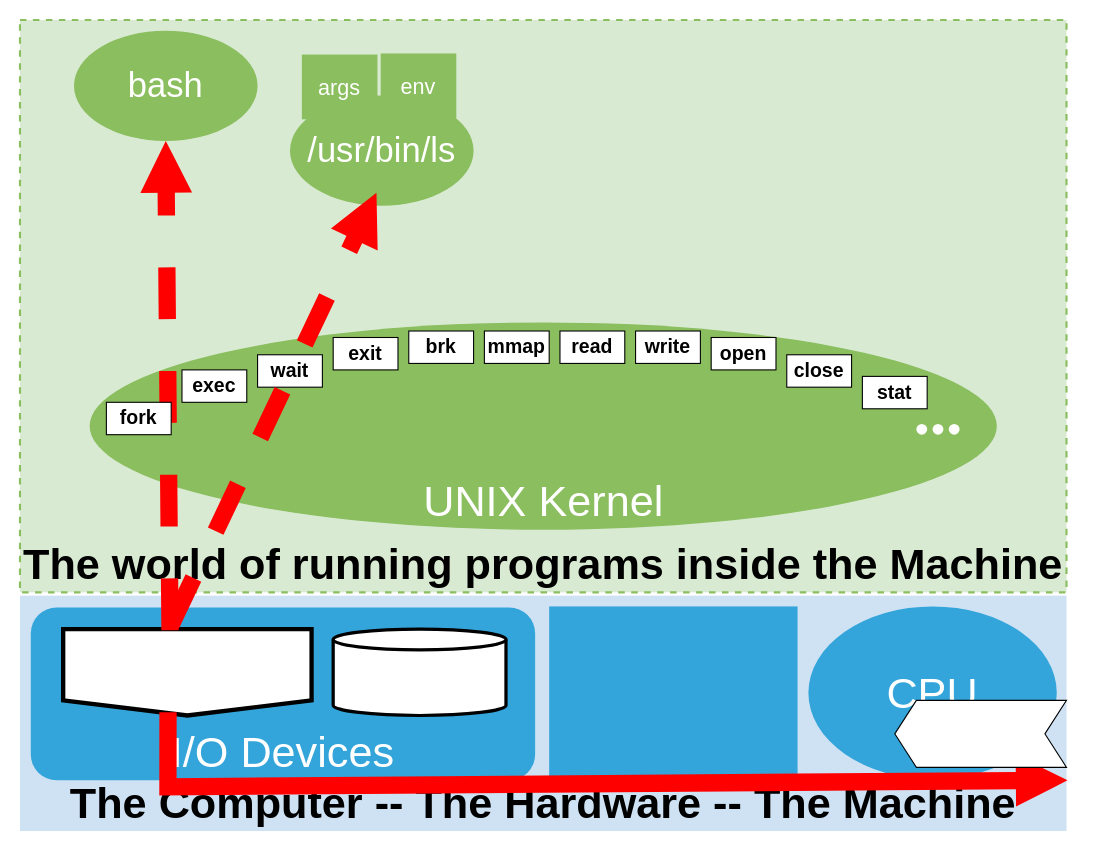
The diagram is 1103 pixels wide and 849 high, and some of its shapes have lost their labels. The shapes that lost their labels are listed below. From the top down, each one's centre as x and y in pixels, then its label:
(x=186, y=671): Communication Devices
(x=419, y=672): Storage Devices
(x=673, y=692): Main Memory
(x=980, y=733): ls /etc
